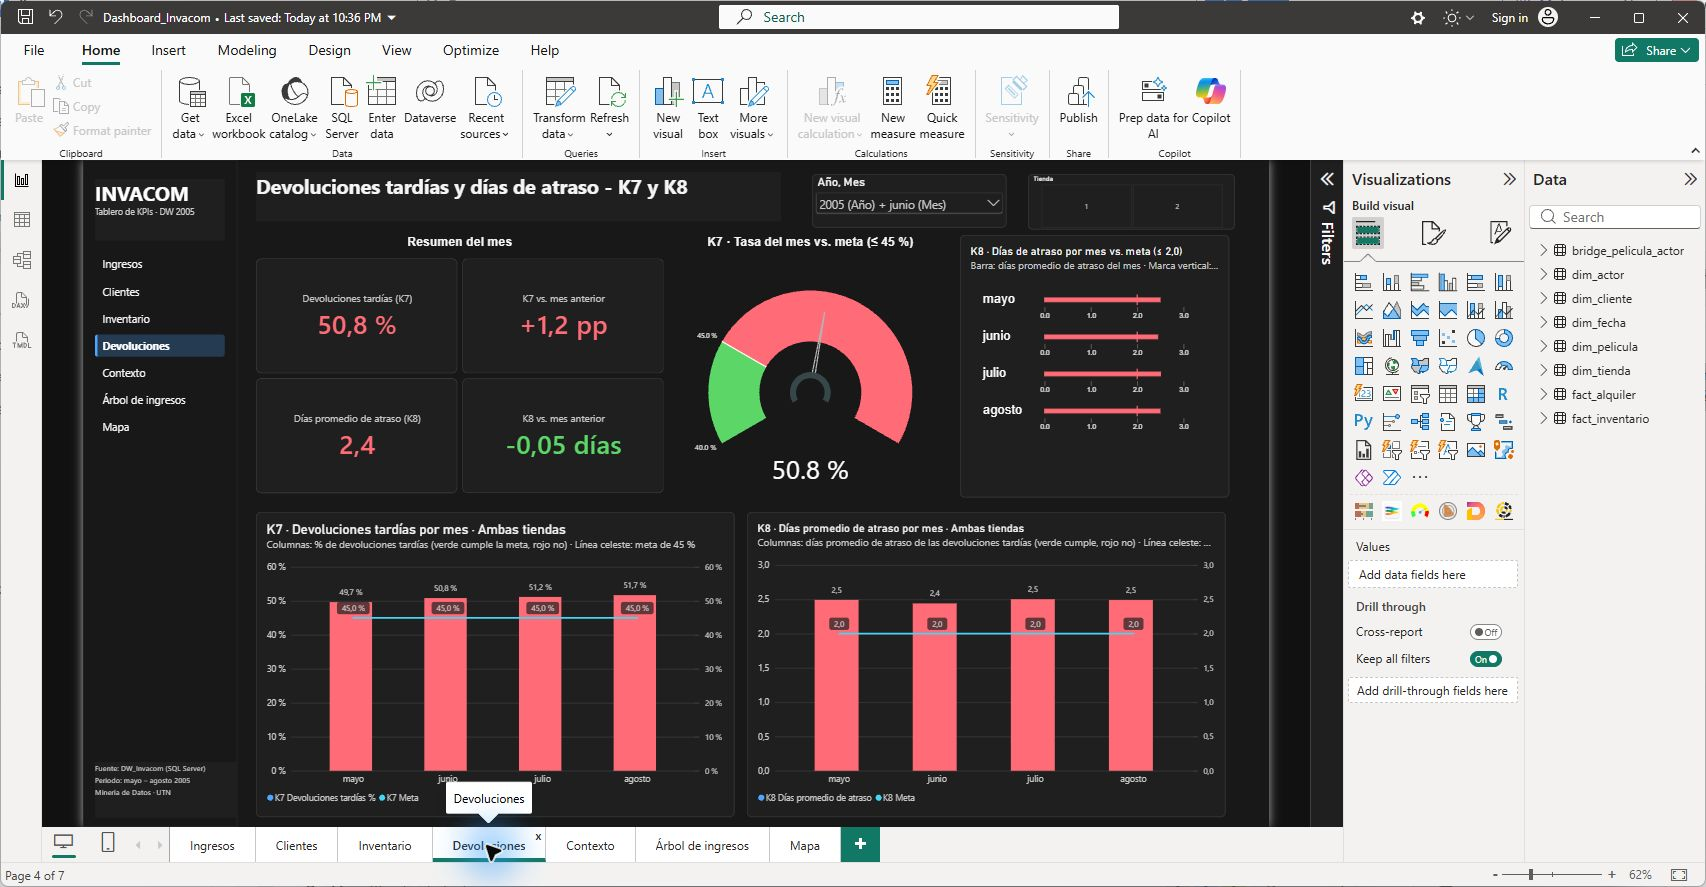

The page's visual inventory and layout, read from the dashboard file:
{"tool":"powerbi","page":{"name":"Devoluciones · K7 y K8","canvas":[1920,1080],"ordinal":4},"visuals":[{"type":"shape","box":[0,0,250,1080],"z":0},{"type":"pageNavigator","box":[20,150,210,300],"z":1},{"type":"textbox","box":[20,30,210,100],"z":2}]}

Visuals, with their boxes on the page's 1920x1080 design canvas (x1, y1, x2, y2). These are canvas units, not pixel positions in the 1706x887 screenshot, which may show the page scaled, cropped or inside an application window:
shape: 0:0:250:1080
pageNavigator: 20:150:230:450
textbox: 20:30:230:130
